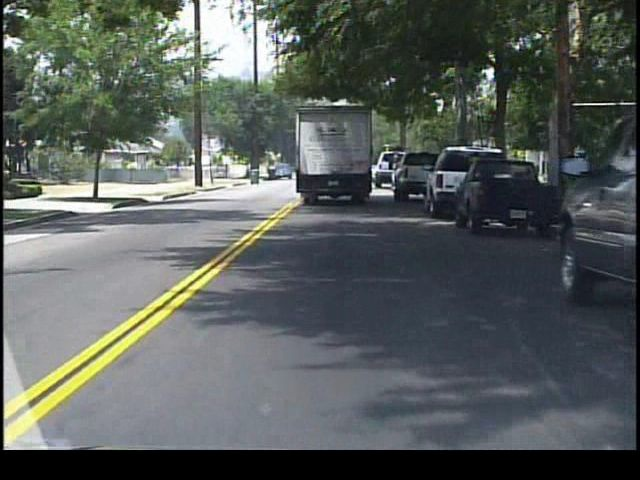person: (224, 163, 230, 180)
